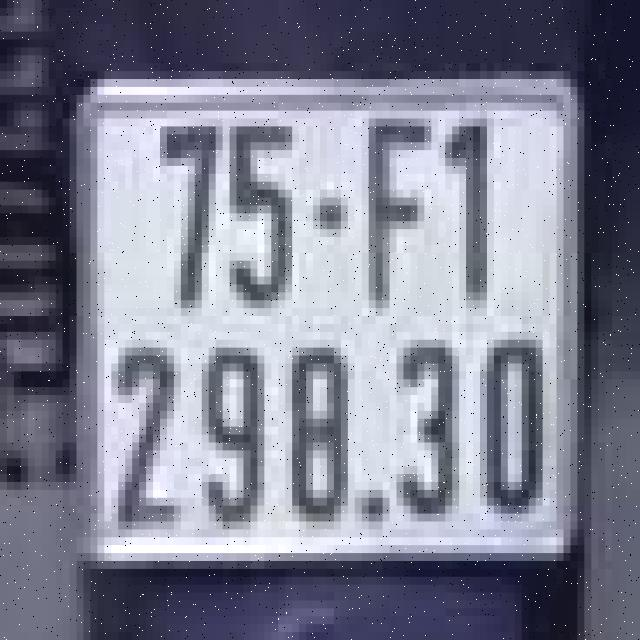0: (473, 320, 550, 533)
1: (449, 99, 504, 312)
2: (101, 344, 191, 533)
3: (390, 332, 466, 521)
5: (226, 103, 310, 316)
7: (143, 119, 226, 316)
8: (285, 332, 355, 537)
9: (181, 324, 271, 545)
F: (355, 99, 438, 312)
